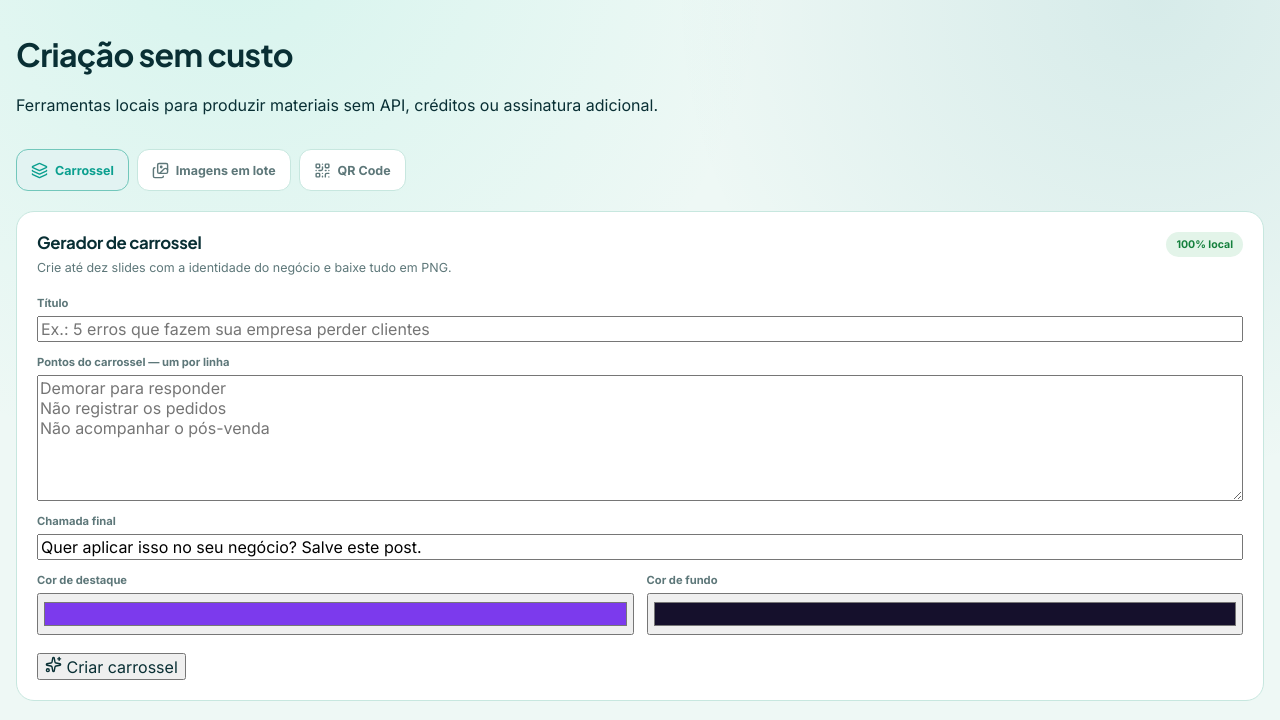
Test case: CreativeToolkit › navega entre imagens e QR Code
Click the tab "Imagens em lote" at (214, 170), box [137,149,291,191]
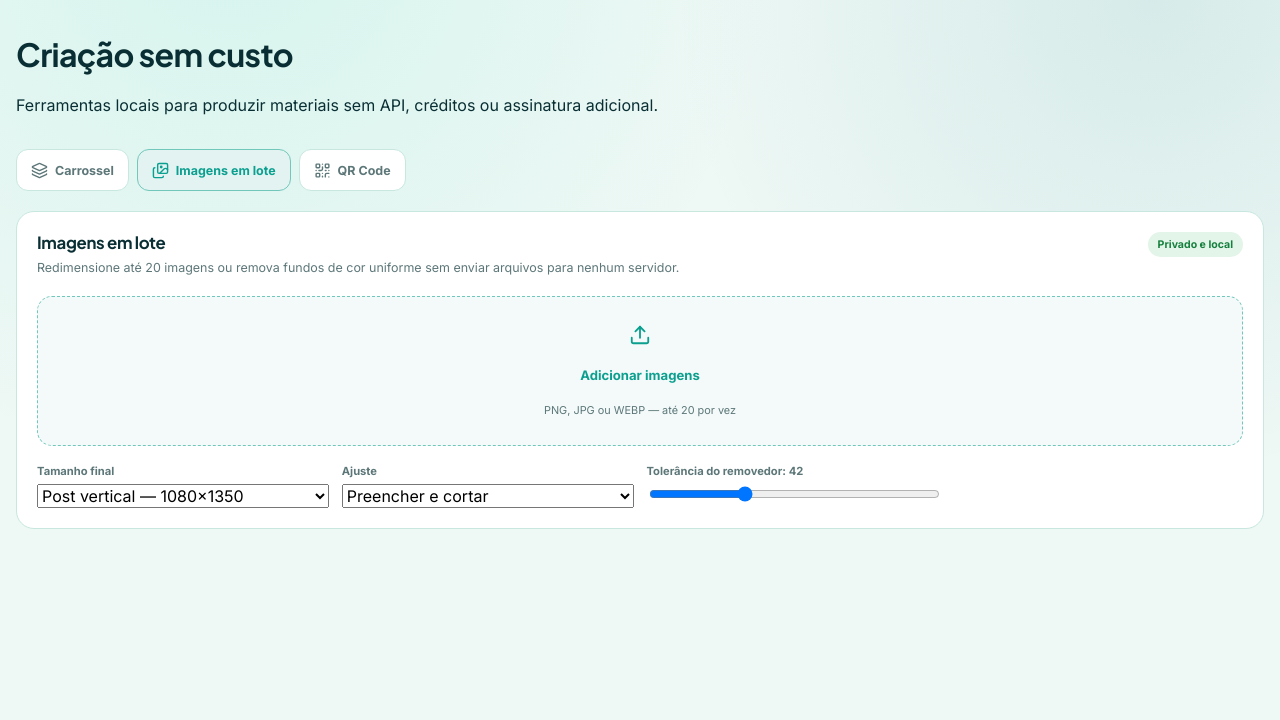
Check: the text "Adicionar imagens" is shown, box [580,367,700,383]
Click the tab "QR Code" at (352, 170), box [299,149,406,191]
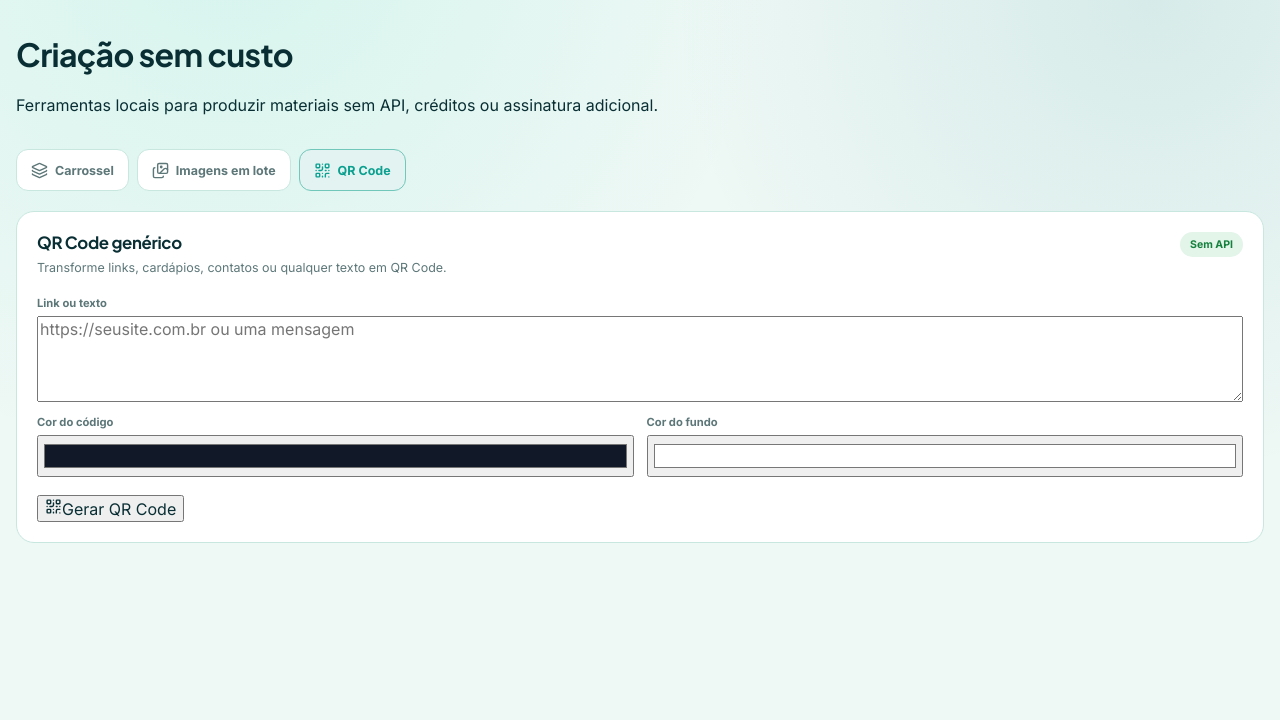
Check: the text box labelled "Link ou texto" is shown, box [37,316,1243,402]
